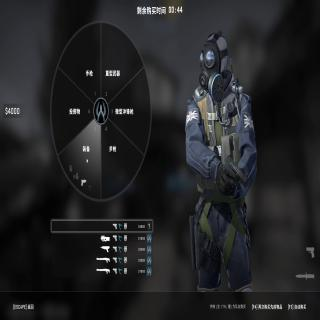CT-Head: (198, 31, 229, 96)
